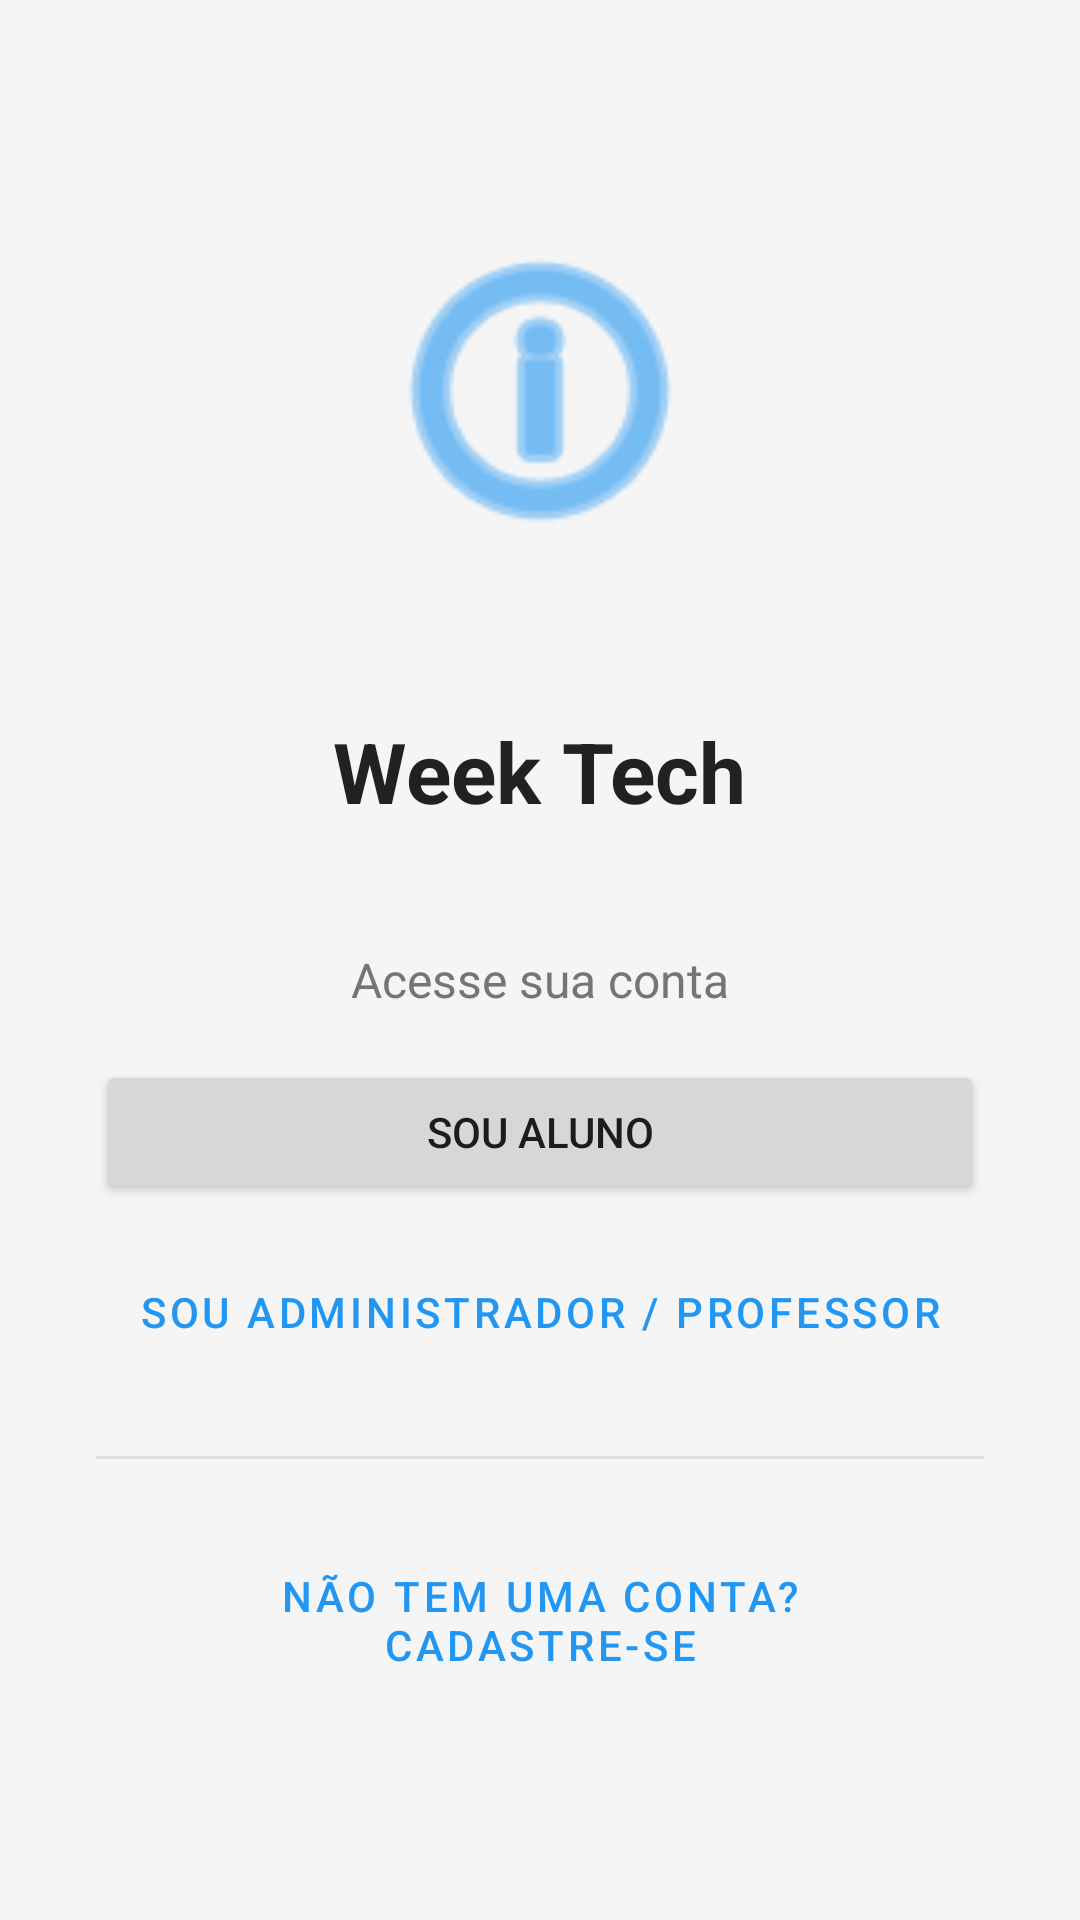

Where icons sit on this 1080 × 1920 app screen, as (x1=x1, y1=y1, x2=x2, y2=y2):
info details: (x1=410, y1=262, x2=670, y2=521)
